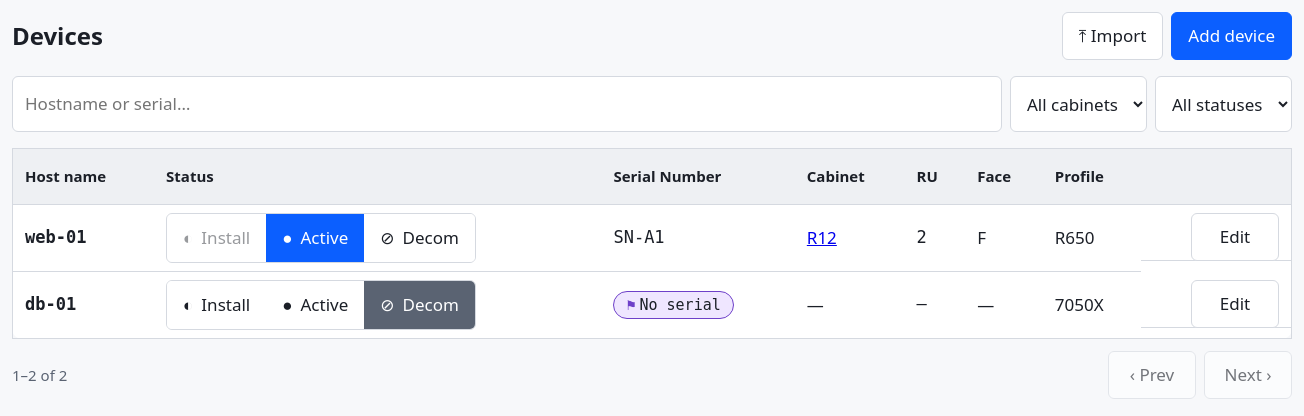
DevicesPage › uses server-side search (host/serial) and status filters
Check: the text "web-01" is shown, box [12,204,154,272]
In the search field named "Search devices": coordinates (507, 104) [12,76,1002,132], type "SN-A"
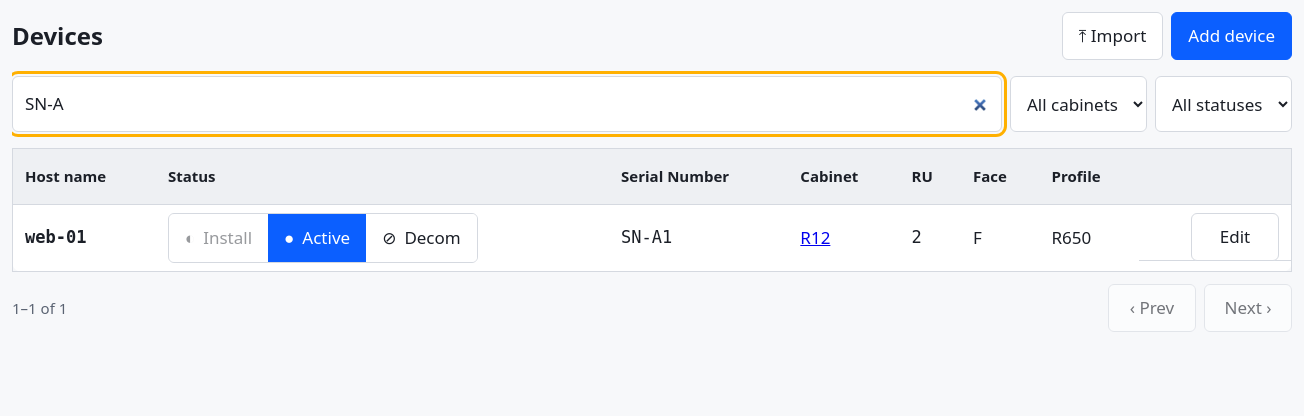
Check: the text "db-01" is gone
Clear the search field named "Search devices": coordinates (507, 104) [12,76,1002,132]
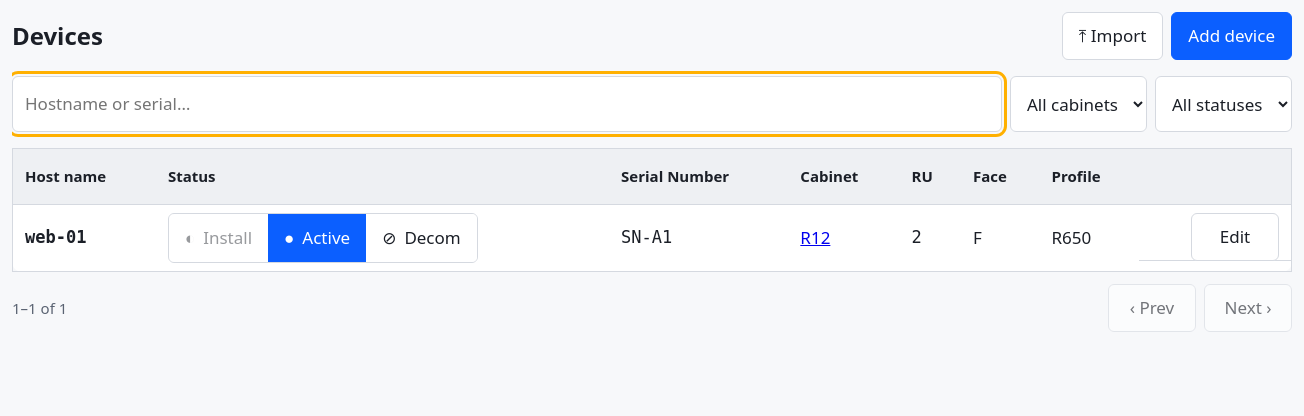
Select "Decom" in the dropdown named "Filter by status": coordinates (1224, 104) [1155,76,1292,132]
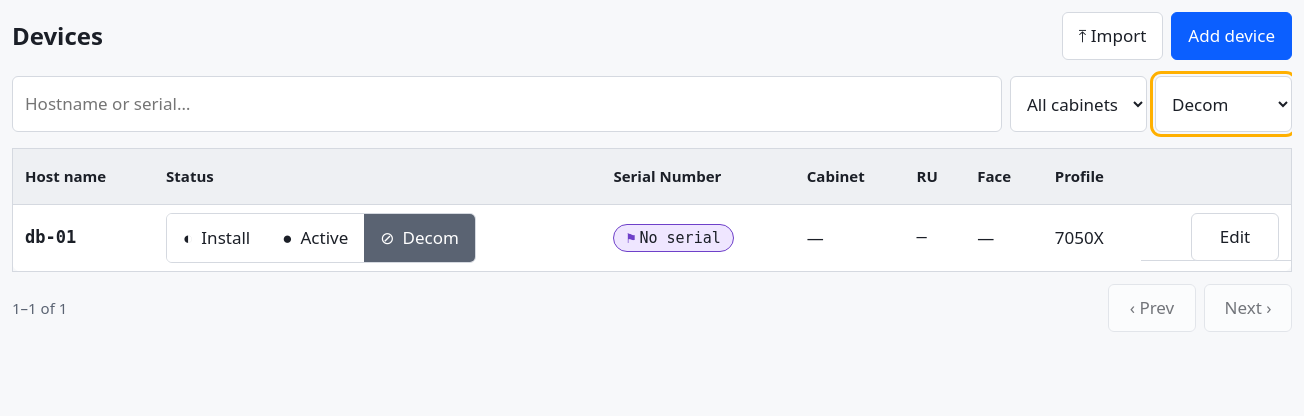
Check: the text "web-01" is gone
